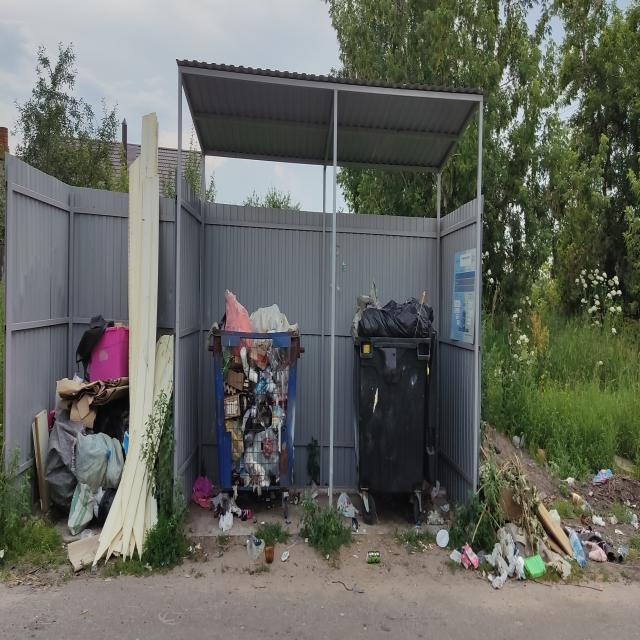bin: (202, 285, 310, 527), (352, 332, 432, 493)
plastic: (25, 291, 143, 573), (355, 279, 434, 335)
